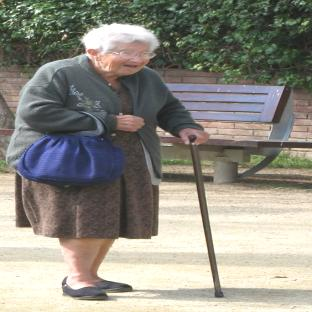Human: (7, 23, 209, 300)
